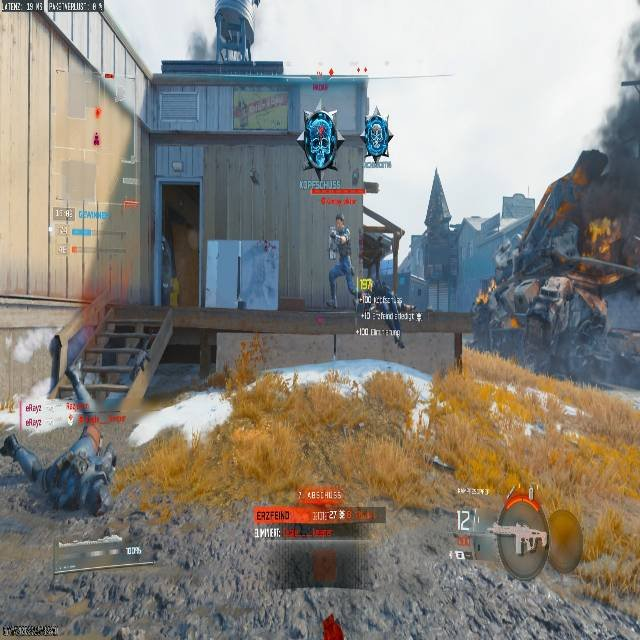head: (335, 214, 344, 228)
player: (299, 107, 341, 174), (327, 214, 356, 301), (362, 109, 391, 164), (384, 288, 408, 353)
